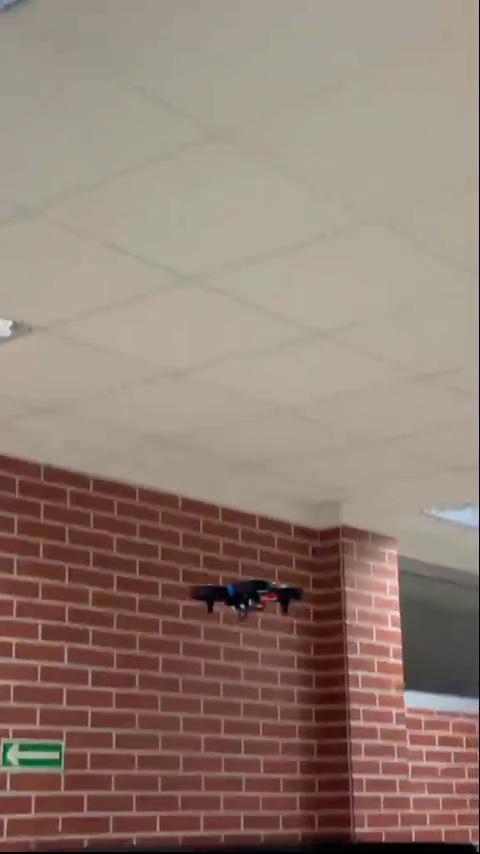drone: (190, 575, 306, 626)
